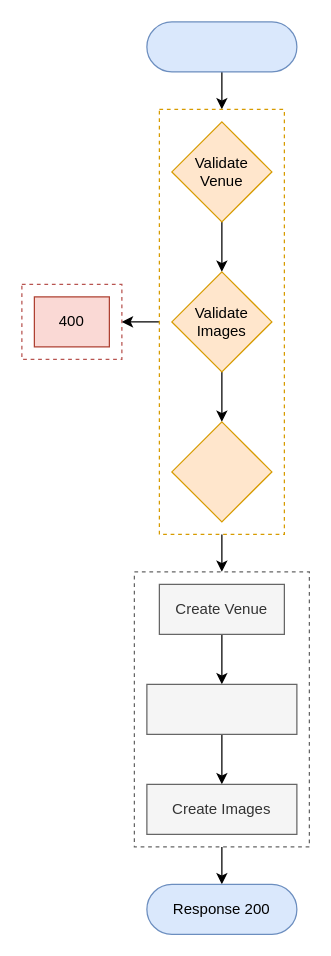
Some shapes in this 331 by 956 pixel diagram are drawn without their labels. The shapes that lost their labels are listed below. From the top down, each one's box as (x1, y1, x2, y2) in pixels, then its label:
(146, 21, 297, 72): POST /veneus
(171, 421, 272, 522): Validate Amenities
(146, 683, 297, 734): Create Amenities
